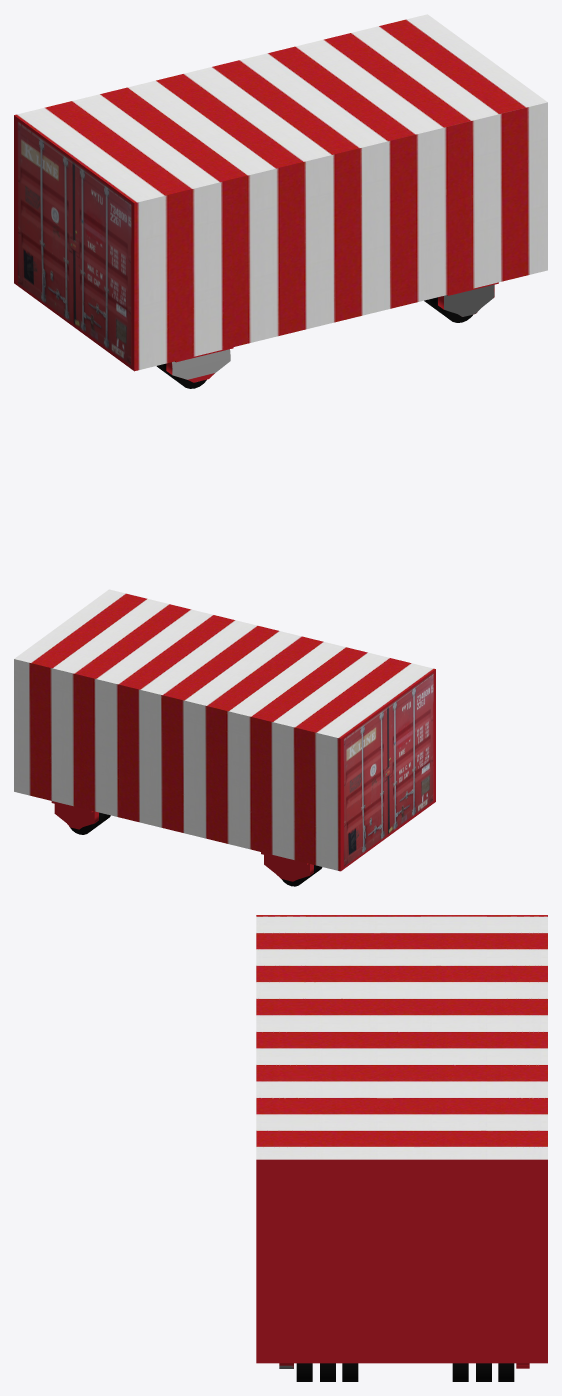
Rendered from Cargo 1.fbx.
The picture shows the model from 3 angles, top to bottom: view 1: azimuth 30°, elevation 25°; view 2: azimuth 150°, elevation 25°; view 3: azimuth 270°, elevation 25°; orthographic projection. The views are drawn at different scales.
Parts seen in each view (by area): view 1: CargoT, polySurface1; view 2: CargoT; view 3: CargoT.
Boxes of the visible parts, left/top/right/bottom form: CargoT: left=14, top=14, right=547, bottom=388; polySurface1: left=172, top=349, right=230, bottom=379; CargoT: left=14, top=589, right=435, bottom=886; CargoT: left=256, top=915, right=547, bottom=1381.
Bounding box in the file's own units: 7.45 × 4.28 × 6.24.
